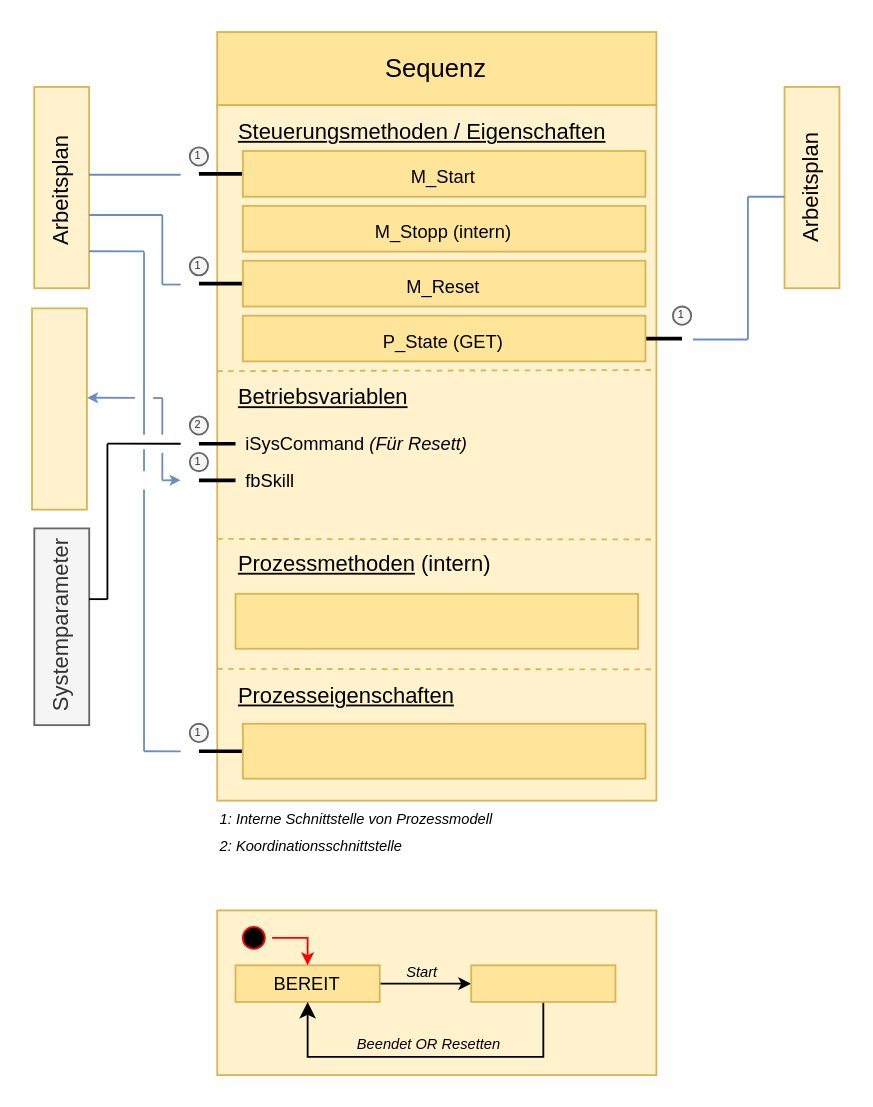
Some shapes in this 873 by 1107 pixel diagram are drawn without their labels. The shapes that lost their labels are listed below. From the top down, each one's centre as x and y in pixels, then its label:
At pixel 58 408: "Skill".
At pixel 436 620: "M_Prozessmethoden".
At pixel 443 750: "P_Prozessparameter (SET)".
At pixel 542 982: "LAUFEND".
